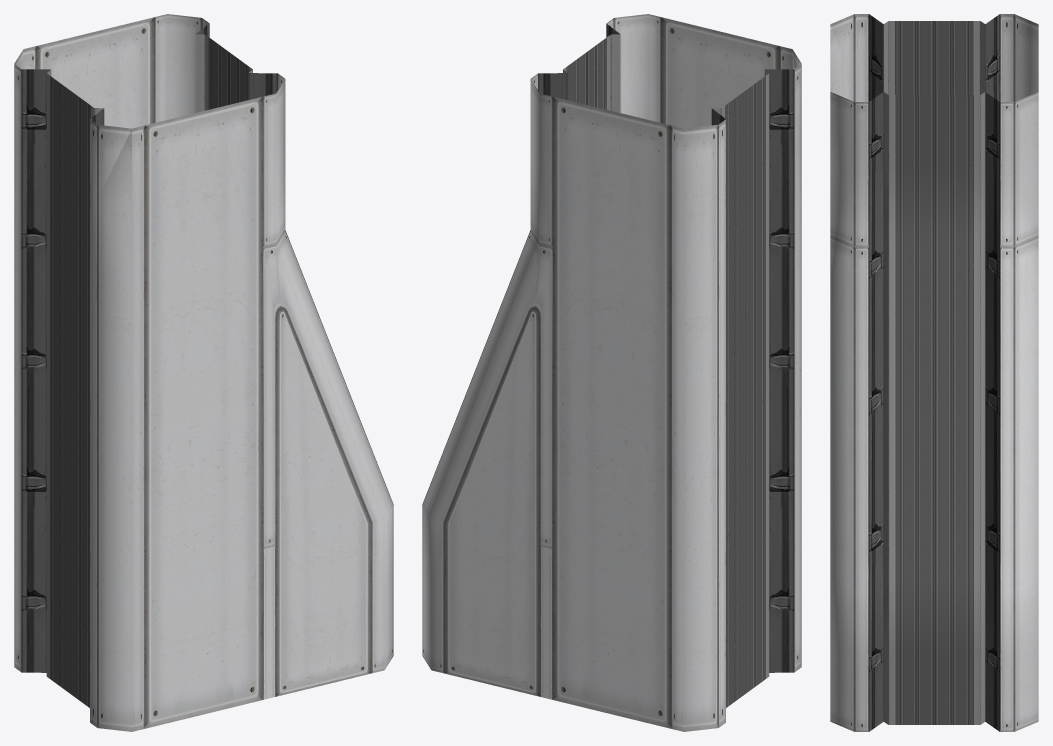
Rendered from CeilingBrace_Angle.FBX.
3 renders of one model, left to right at view 1: azimuth 30°, elevation 25°; view 2: azimuth 150°, elevation 25°; view 3: azimuth 270°, elevation 25°, orthographic. The views are drawn at different scales.
Visible parts, largest first — view 1: CeilingBrace_Angle; view 2: CeilingBrace_Angle; view 3: CeilingBrace_Angle.
Part boxes in pixels (<box>): CeilingBrace_Angle: <box>14,14,393,731</box>; CeilingBrace_Angle: <box>422,14,801,731</box>; CeilingBrace_Angle: <box>830,14,1038,731</box>.
Bounding box in the file's own units: 2.06 × 4 × 1.3.
